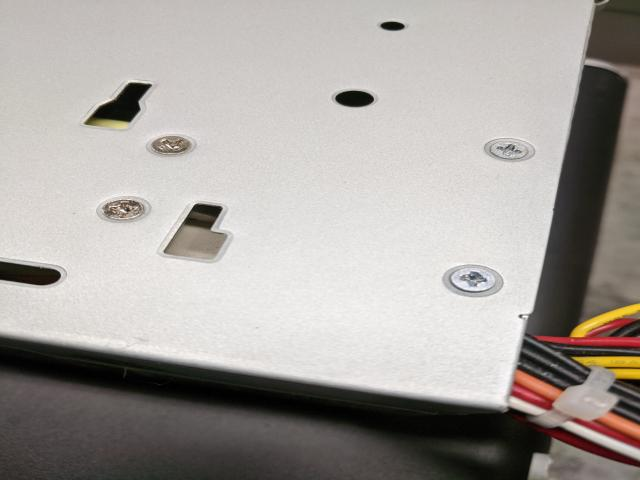CRS: (450, 264, 496, 293), (488, 136, 530, 161), (148, 134, 195, 156), (100, 197, 142, 219)
